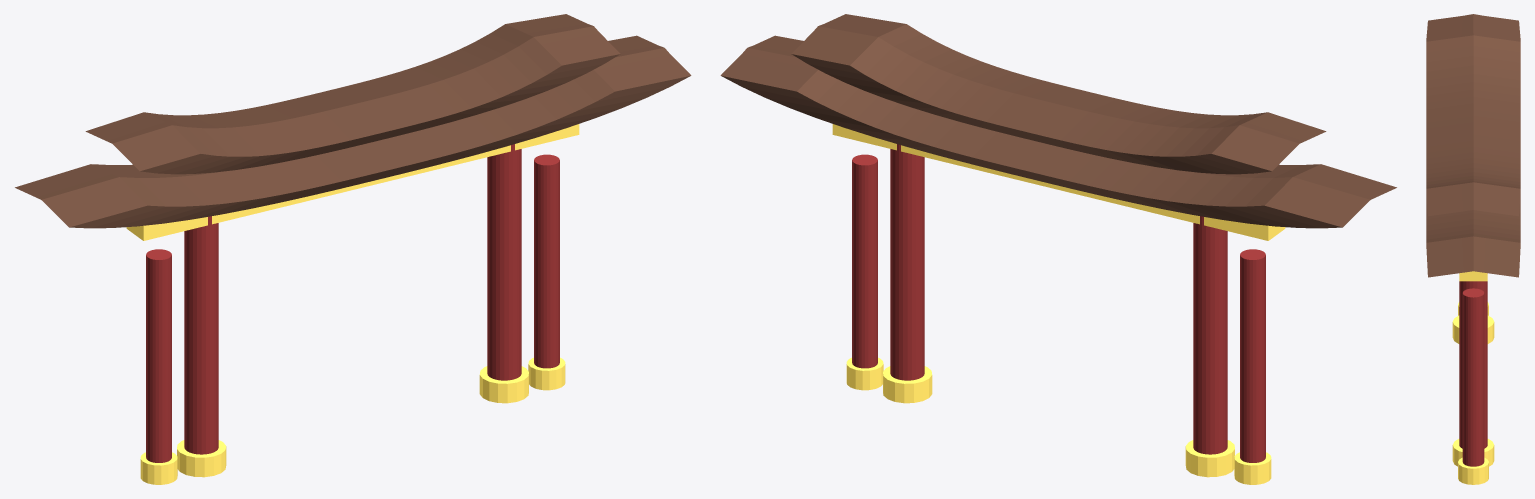
The model's file is mai_dao_archway.glb.
3 views of the same model, side by side, from view 1: azimuth 30°, elevation 25°; view 2: azimuth 150°, elevation 25°; view 3: azimuth 270°, elevation 25° (orthographic). The views are drawn at different scales.
Parts seen in each view (by area): view 1: Grid.001, Grid, Cylinder, Cylinder.002, Cylinder.006, Cylinder.004, Cube, Cylinder.001, Cylinder.003, Cylinder.005, Cylinder.007; view 2: Grid.001, Grid, Cylinder, Cylinder.002, Cylinder.006, Cylinder.004, Cube, Cylinder.001, Cylinder.003, Cylinder.005, Cylinder.007; view 3: Grid.001, Grid, Cylinder.006, Cylinder.002, Cylinder.007, Cylinder.003, Cylinder.001, Cube.
Part boxes in pixels (x1,y1,x2,y2): Grid.001: (85, 14, 620, 174); Grid: (15, 35, 691, 228); Cylinder: (184, 216, 218, 454); Cylinder.002: (487, 144, 521, 380); Cylinder.006: (534, 154, 559, 368); Cylinder.004: (146, 249, 171, 462); Cube: (126, 124, 579, 240); Cylinder.001: (177, 440, 226, 477); Cylinder.003: (479, 366, 528, 403); Cylinder.005: (140, 452, 177, 484); Cylinder.007: (528, 357, 565, 390); Grid.001: (791, 14, 1326, 174); Grid: (720, 35, 1396, 228); Cylinder: (1193, 216, 1227, 454); Cylinder.002: (890, 144, 924, 380); Cylinder.006: (852, 154, 877, 368); Cylinder.004: (1240, 249, 1265, 462); Cube: (832, 124, 1285, 240); Cylinder.001: (1185, 440, 1234, 477); Cylinder.003: (883, 366, 932, 403); Cylinder.005: (1234, 452, 1271, 484); Cylinder.007: (846, 357, 883, 390); Grid.001: (1426, 14, 1520, 216); Grid: (1426, 194, 1520, 277); Cylinder.006: (1462, 288, 1484, 466); Cylinder.002: (1459, 281, 1487, 448); Cylinder.007: (1458, 457, 1488, 484); Cylinder.003: (1452, 439, 1494, 466); Cylinder.001: (1452, 315, 1494, 343); Cube: (1459, 271, 1487, 281).
Size of the model in its own units: 11.73 by 6.27 by 1.85.
